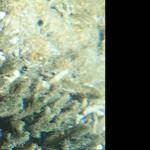dead: (3, 12, 101, 145)
